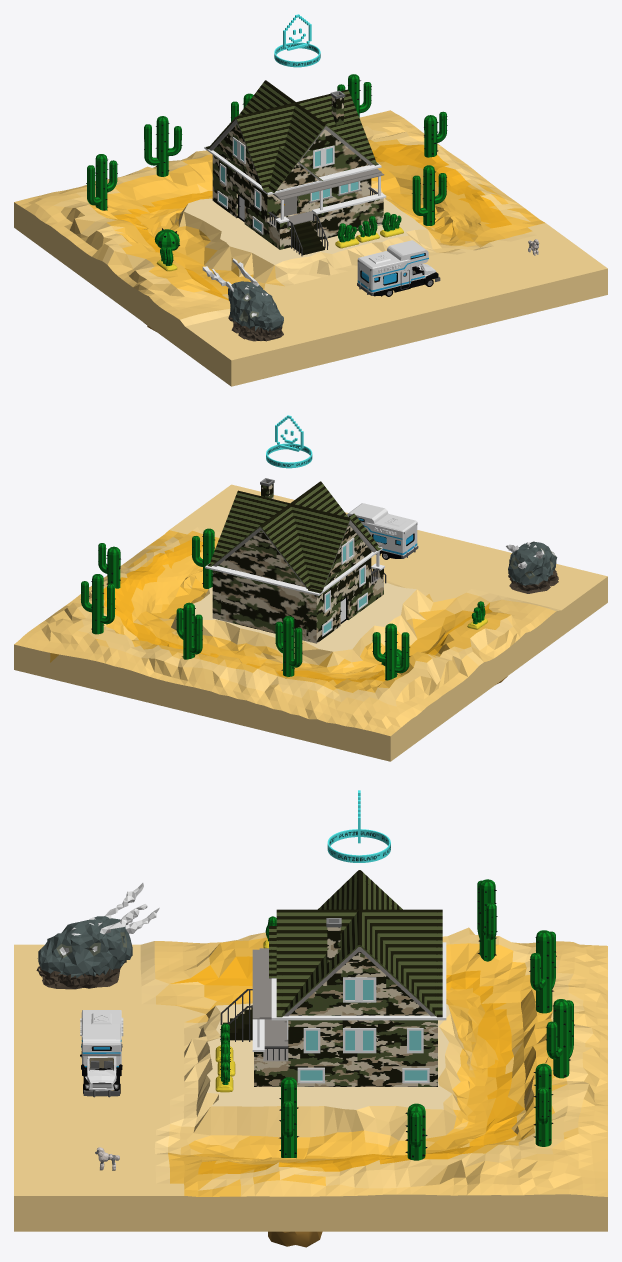
3 views of the same model, one above another, from view 1: azimuth 30°, elevation 25°; view 2: azimuth 150°, elevation 25°; view 3: azimuth 270°, elevation 25° (orthographic). The views are drawn at different scales.
Visible parts, largest first — view 1: Cube.001, Cube.002, VEHICLES_CAMPER, OBJRANDOM_METEORITE, Cylinder.044, Cylinder.037, Cylinder.045, TYPE_PREMIUM, Cylinder.038, Cylinder.042; view 2: Cube.001, Cube.002, VEHICLES_CAMPER, OBJRANDOM_METEORITE, Cylinder.045, Cylinder.042, Cylinder.044, Cylinder.043, TYPE_PREMIUM, Cylinder.037, Cylinder.038; view 3: Cube.001, Cube.002, OBJRANDOM_METEORITE, VEHICLES_CAMPER, Cylinder.043, Cylinder.044, Cylinder.045, Cylinder.042, Cylinder.037, TYPE_PREMIUM, Cylinder.038, UNDERGROUND_T_REX_BONES.
Boxes of the visible parts, left/top/right/bottom form: Cube.001: left=14, top=110, right=607, bottom=386; Cube.002: left=204, top=80, right=386, bottom=256; VEHICLES_CAMPER: left=357, top=240, right=440, bottom=296; OBJRANDOM_METEORITE: left=202, top=258, right=283, bottom=341; Cylinder.044: left=144, top=116, right=182, bottom=176; Cylinder.037: left=412, top=165, right=446, bottom=225; Cylinder.045: left=86, top=154, right=117, bottom=210; TYPE_PREMIUM: left=274, top=14, right=320, bottom=67; Cylinder.038: left=424, top=111, right=447, bottom=157; Cylinder.042: left=337, top=74, right=371, bottom=117; Cube.001: left=14, top=484, right=607, bottom=761; Cube.002: left=205, top=478, right=386, bottom=643; VEHICLES_CAMPER: left=347, top=503, right=418, bottom=559; OBJRANDOM_METEORITE: left=506, top=541, right=558, bottom=593; Cylinder.045: left=372, top=623, right=410, bottom=680; Cylinder.042: left=81, top=574, right=115, bottom=634; Cylinder.044: left=275, top=616, right=302, bottom=676; Cylinder.043: left=176, top=602, right=202, bottom=659; TYPE_PREMIUM: left=266, top=415, right=312, bottom=468; Cylinder.037: left=192, top=528, right=218, bottom=588; Cylinder.038: left=98, top=543, right=120, bottom=588; Cube.001: left=14, top=927, right=607, bottom=1231; Cube.002: left=220, top=870, right=446, bottom=1086; OBJRANDOM_METEORITE: left=36, top=883, right=159, bottom=989; VEHICLES_CAMPER: left=80, top=1010, right=123, bottom=1097; Cylinder.043: left=546, top=999, right=574, bottom=1078; Cylinder.044: left=529, top=930, right=556, bottom=1013; Cylinder.045: left=477, top=879, right=497, bottom=961; Cylinder.042: left=533, top=1063, right=553, bottom=1146; Cylinder.037: left=279, top=1077, right=298, bottom=1157; TYPE_PREMIUM: left=327, top=790, right=390, bottom=862; Cylinder.038: left=405, top=1103, right=427, bottom=1160; UNDERGROUND_T_REX_BONES: left=268, top=1231, right=322, bottom=1247.
Bounding box in the file's own units: 4002 × 2550 × 4001.
34 materials, 5 textured.
